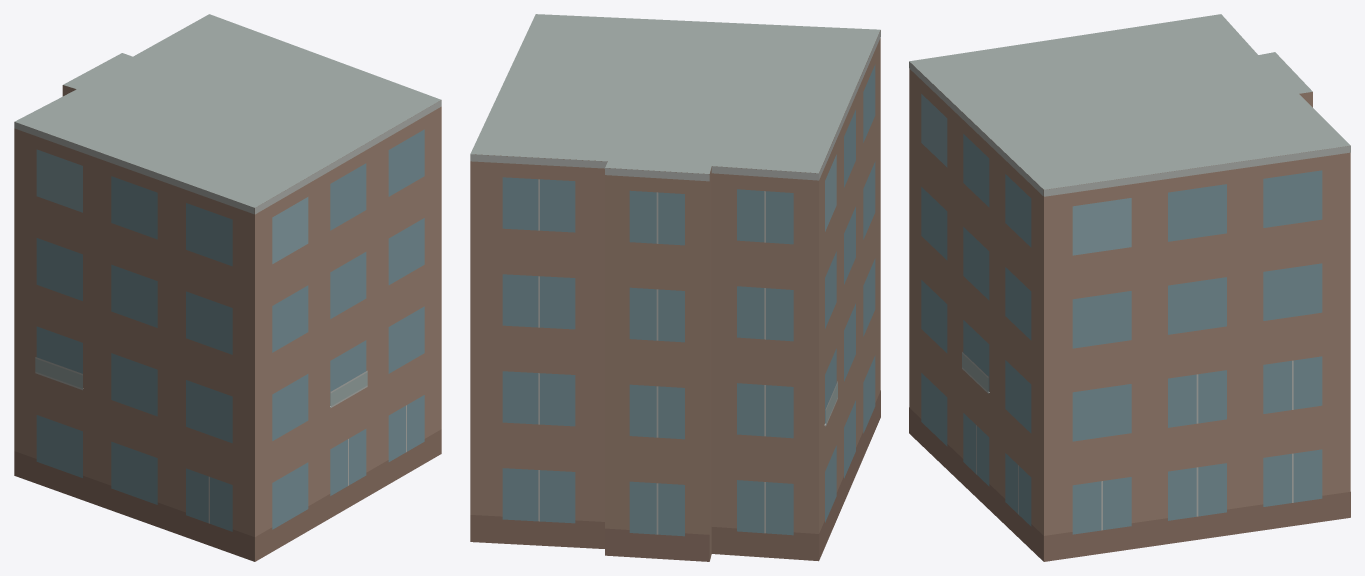
File: survey-upis-32988501.glb
3 views of the same model, side by side, from view 1: azimuth 30°, elevation 25°; view 2: azimuth 150°, elevation 25°; view 3: azimuth 270°, elevation 25° (orthographic). The views are drawn at different scales.
Parts seen in each view (by area): view 1: survey-upis-32988501.tmp; view 2: survey-upis-32988501.tmp; view 3: survey-upis-32988501.tmp.
Part boxes in pixels (bbox=[...]): survey-upis-32988501.tmp: bbox=[14, 14, 441, 561]; survey-upis-32988501.tmp: bbox=[470, 14, 880, 561]; survey-upis-32988501.tmp: bbox=[909, 14, 1350, 561].
Bounding box in the file's own units: 13.19 × 13 × 14.
